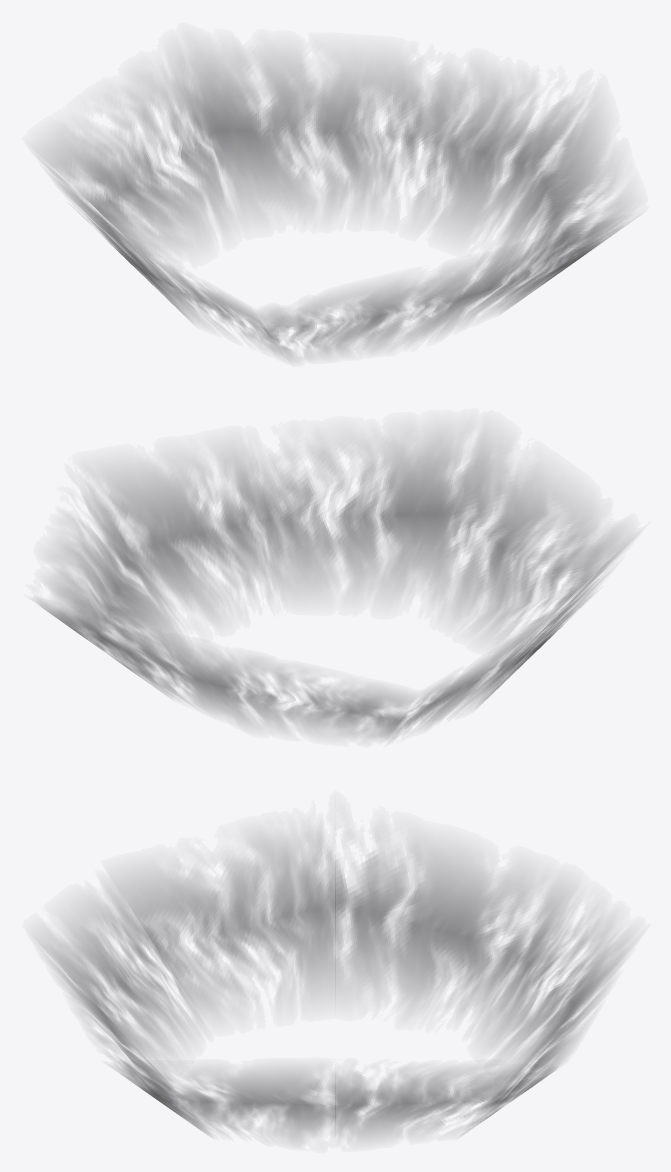
The model's file is boss_bnw_floor_glow1.glb.
3 views of the same model, one above another, from view 1: azimuth 30°, elevation 25°; view 2: azimuth 150°, elevation 25°; view 3: azimuth 270°, elevation 25° (orthographic).
Parts seen in each view (by area): view 1: FloorGlowBnw2; view 2: FloorGlowBnw2; view 3: FloorGlowBnw2.
Part boxes in pixels (x1=…): FloorGlowBnw2: x1=44, y1=53, x2=626, y2=358; FloorGlowBnw2: x1=38, y1=436, x2=629, y2=738; FloorGlowBnw2: x1=42, y1=834, x2=626, y2=1140.
Bounding box in the file's own units: 26.17 × 7.92 × 26.17.
Materials: 1 (1 with a texture image).
